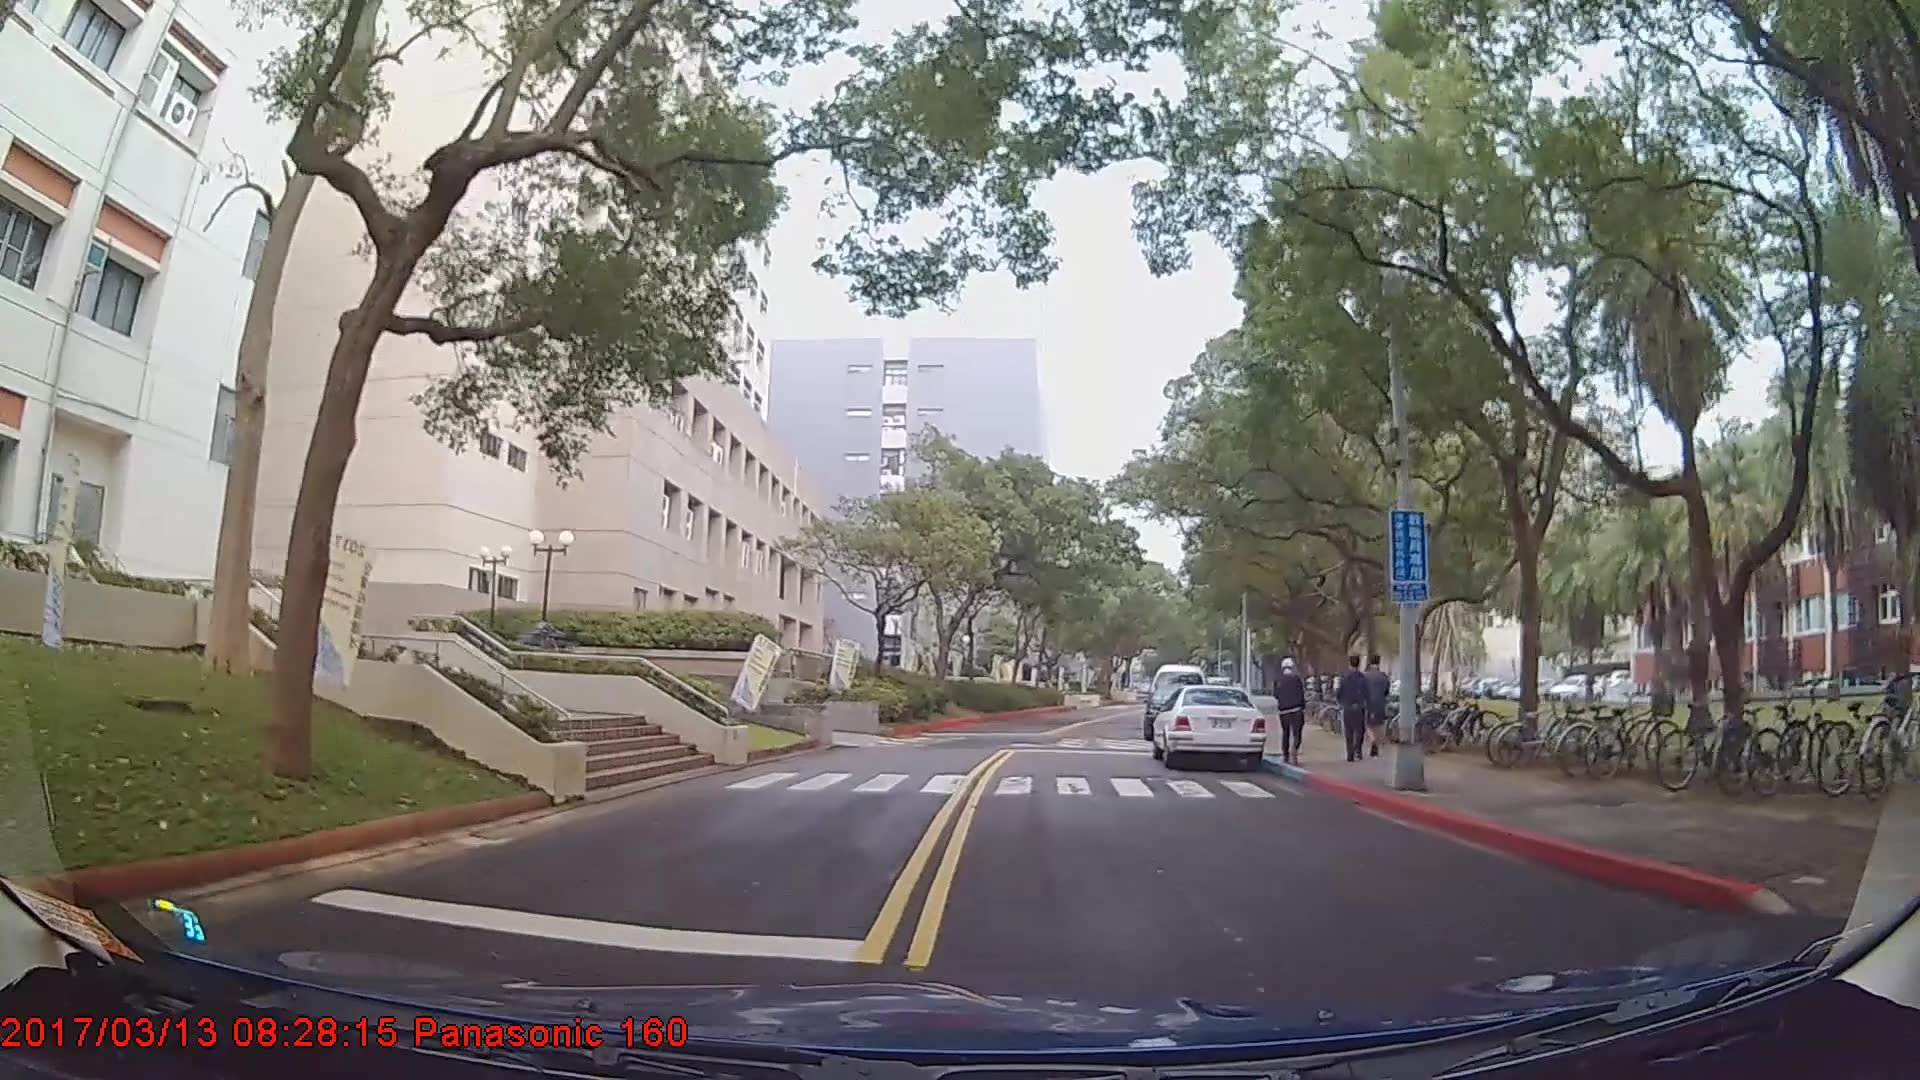pedestrian: (1341, 651, 1376, 763), (1277, 659, 1308, 766)
vehicle: (1148, 684, 1266, 770)
